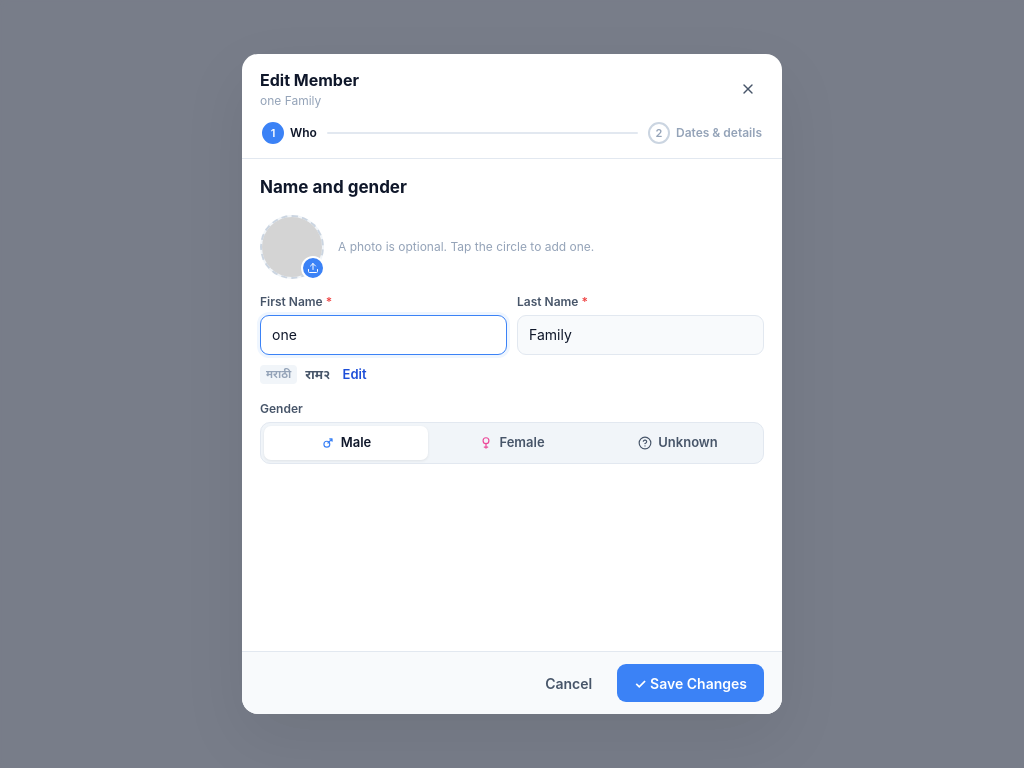
Test: rejects Marathi names with Devanagari digits and opens the Marathi editor
Click the button "✓ Save Changes": [691, 683] box [617,664,764,702]
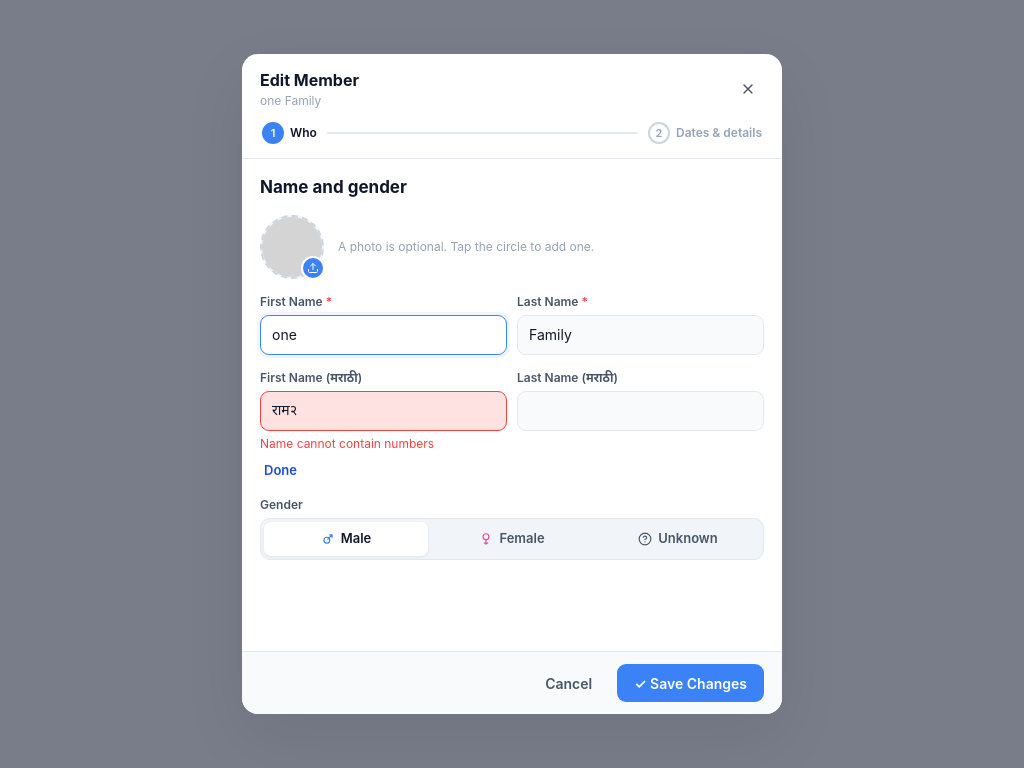
Expected: the text "Name cannot contain numbers" is shown, [260,436,434,450]
Expected: the field labelled "First Name (मराठी)" holds "राम२", [260,390,507,430]
